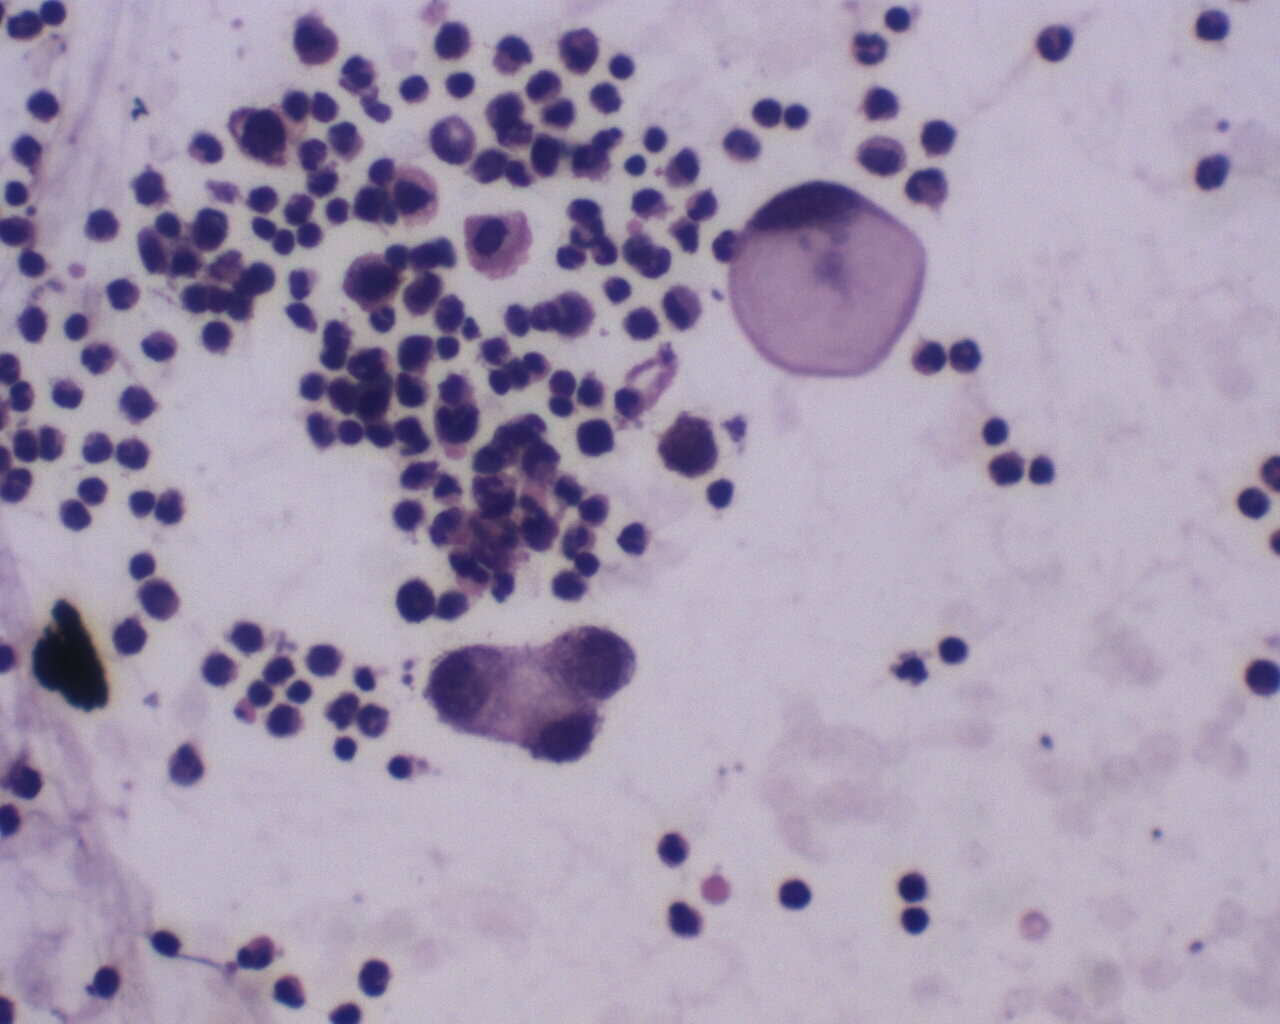ab: (419, 639, 515, 738), (542, 619, 639, 706), (516, 684, 605, 771), (396, 330, 436, 375)
histo: (726, 182, 928, 374)
lymph: (343, 251, 400, 311), (775, 872, 813, 917), (705, 475, 739, 520), (937, 630, 970, 670), (897, 907, 933, 940), (443, 66, 480, 99), (243, 678, 281, 711), (127, 548, 163, 581), (781, 99, 813, 136), (149, 925, 182, 961), (978, 416, 1016, 447), (123, 487, 157, 521), (882, 6, 916, 36), (382, 752, 413, 785), (332, 734, 362, 764), (608, 49, 634, 82), (623, 152, 651, 178)
meso: (460, 208, 535, 278)
neutro: (1033, 18, 1076, 67), (850, 28, 893, 74), (104, 272, 146, 318), (77, 338, 119, 378), (654, 830, 695, 870), (947, 334, 986, 375), (611, 521, 649, 557), (141, 329, 179, 362)
